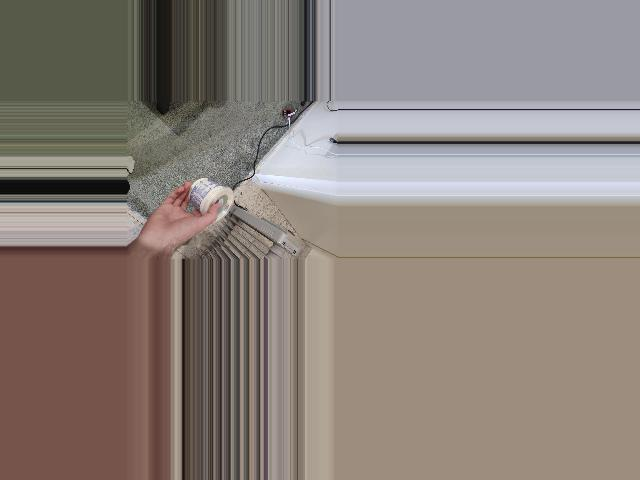cotage: (185, 177, 232, 219)
